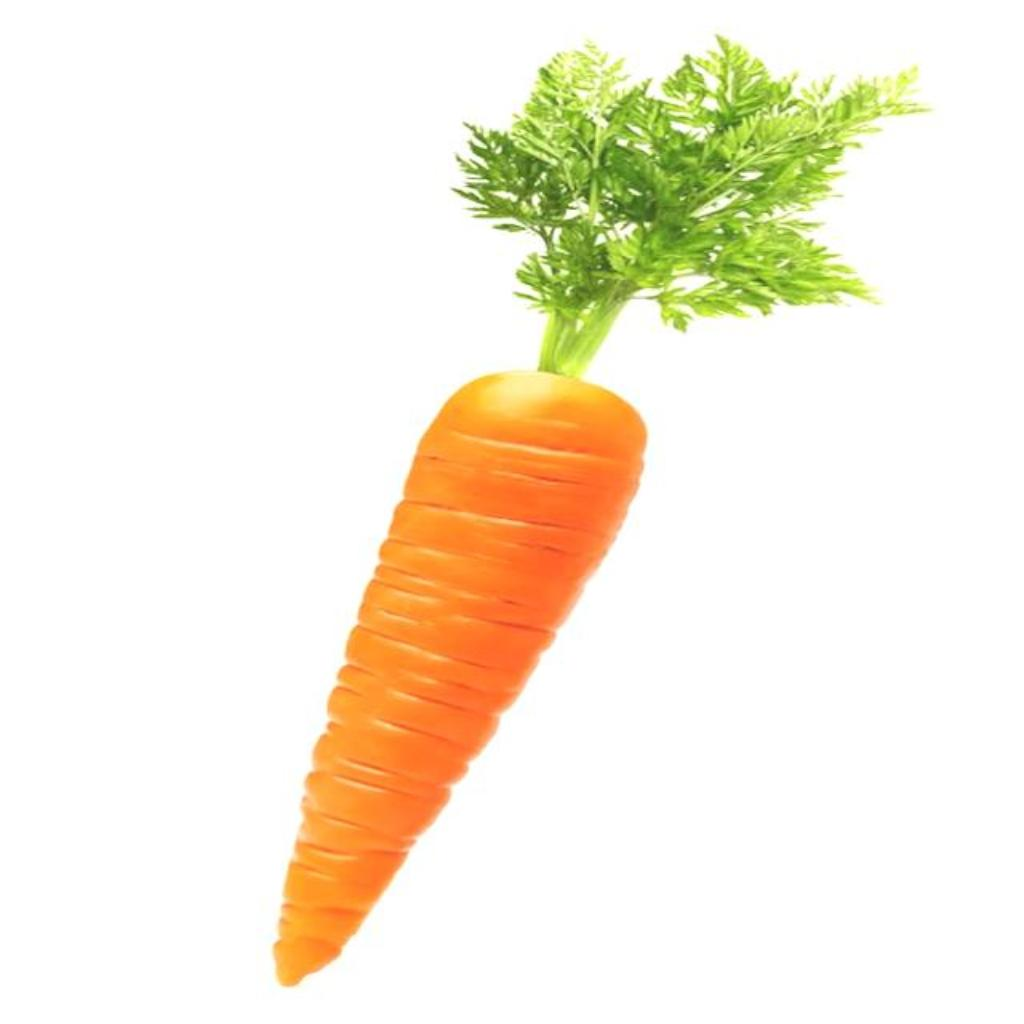carrot: (274, 40, 920, 985)
